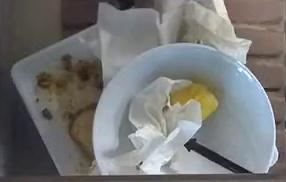fruit: (91, 0, 276, 173), (168, 78, 206, 107)
pork: (63, 102, 96, 158)
